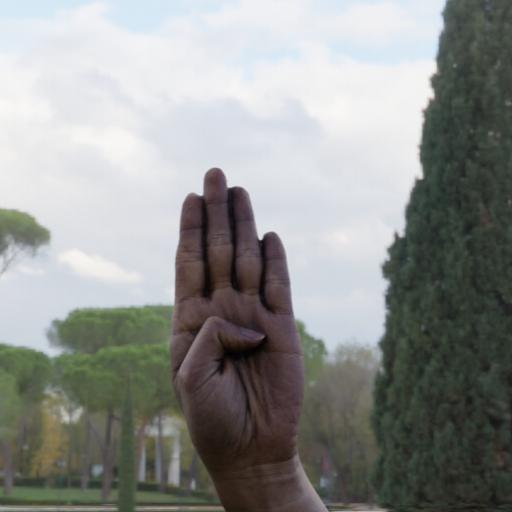B: (146, 144, 332, 468)
